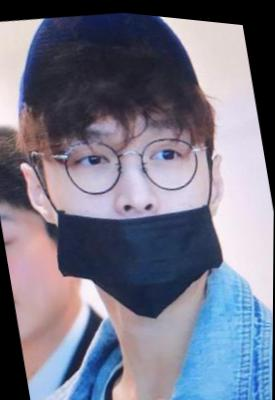WRONG: (30, 84, 233, 324)
